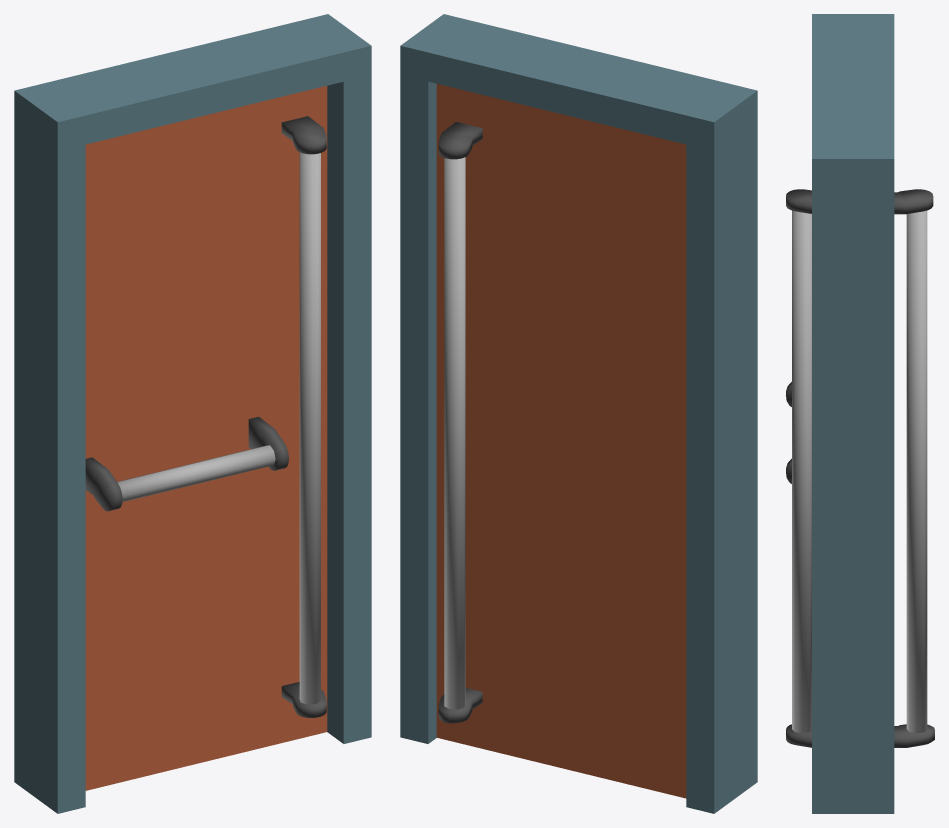
File: d-door-arcade-exit.glb
The picture shows the model from 3 angles, left to right: view 1: azimuth 30°, elevation 25°; view 2: azimuth 150°, elevation 25°; view 3: azimuth 270°, elevation 25°; orthographic projection. The views are drawn at different scales.
Parts seen in each view (by area): view 1: Door.1, arcadeExitDoor; view 2: Door.1, arcadeExitDoor; view 3: arcadeExitDoor, Door.1.
Part boxes in pixels (x1,y1,x2,y2): Door.1: (85,86,327,790); arcadeExitDoor: (14,14,371,813); Door.1: (436,84,686,798); arcadeExitDoor: (400,14,757,813); arcadeExitDoor: (812,14,894,813); Door.1: (786,189,934,747).
Bounding box in the file's own units: 0.9425 × 1.99 × 0.4092.
Materials: 1 (1 with a texture image).
